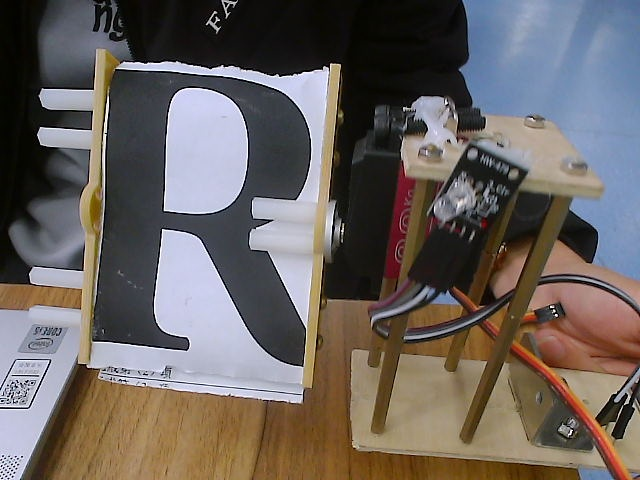R: (19, 45, 379, 438)
